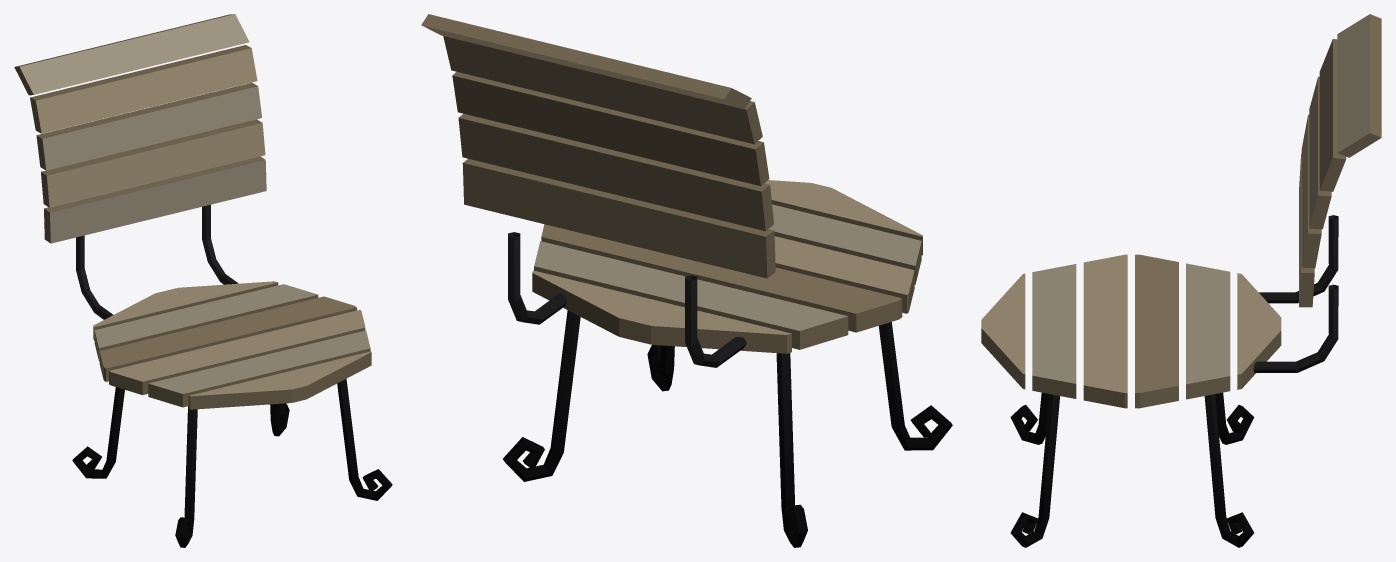
The model's file is FancyChair_1.fbx.
3 views of the same model, side by side, from view 1: azimuth 30°, elevation 25°; view 2: azimuth 150°, elevation 25°; view 3: azimuth 270°, elevation 25° (orthographic). The views are drawn at different scales.
Visible parts, largest first — view 1: Plane.155; view 2: Plane.155; view 3: Plane.155.
Part boxes in pixels (bbox=[...]): Plane.155: bbox=[14, 14, 392, 547]; Plane.155: bbox=[421, 14, 952, 547]; Plane.155: bbox=[981, 14, 1381, 547].
Bounding box in the file's own units: 86.13 × 105 × 122.
